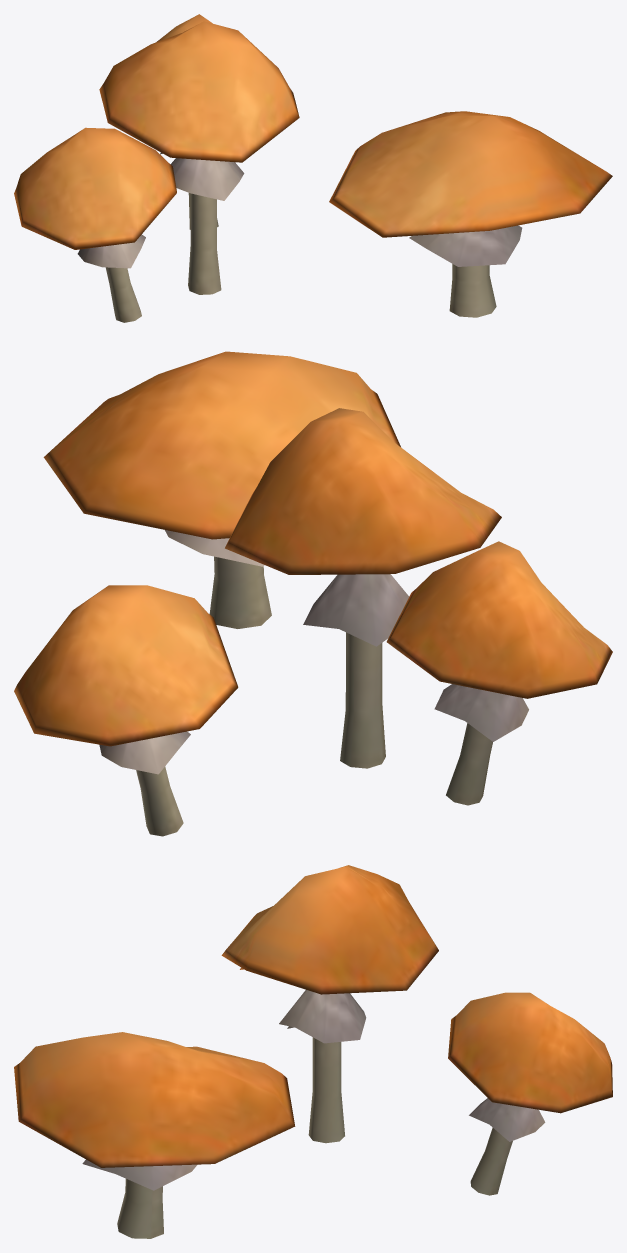
File: mushroom_redcap.glb
3 renders of one model, top to bottom at view 1: azimuth 30°, elevation 25°; view 2: azimuth 150°, elevation 25°; view 3: azimuth 270°, elevation 25°, orthographic. The views are drawn at different scales.
Parts seen in each view (by area): view 1: Mushroom_RedCap; view 2: Mushroom_RedCap; view 3: Mushroom_RedCap.
Part boxes in pixels (x1,y1,x2,y2): Mushroom_RedCap: [14, 14, 612, 322]; Mushroom_RedCap: [14, 351, 612, 836]; Mushroom_RedCap: [14, 865, 612, 1238].
Size of the model in its own units: 1.68 by 0.9167 by 1.71.
Materials: 1 (1 with a texture image).
